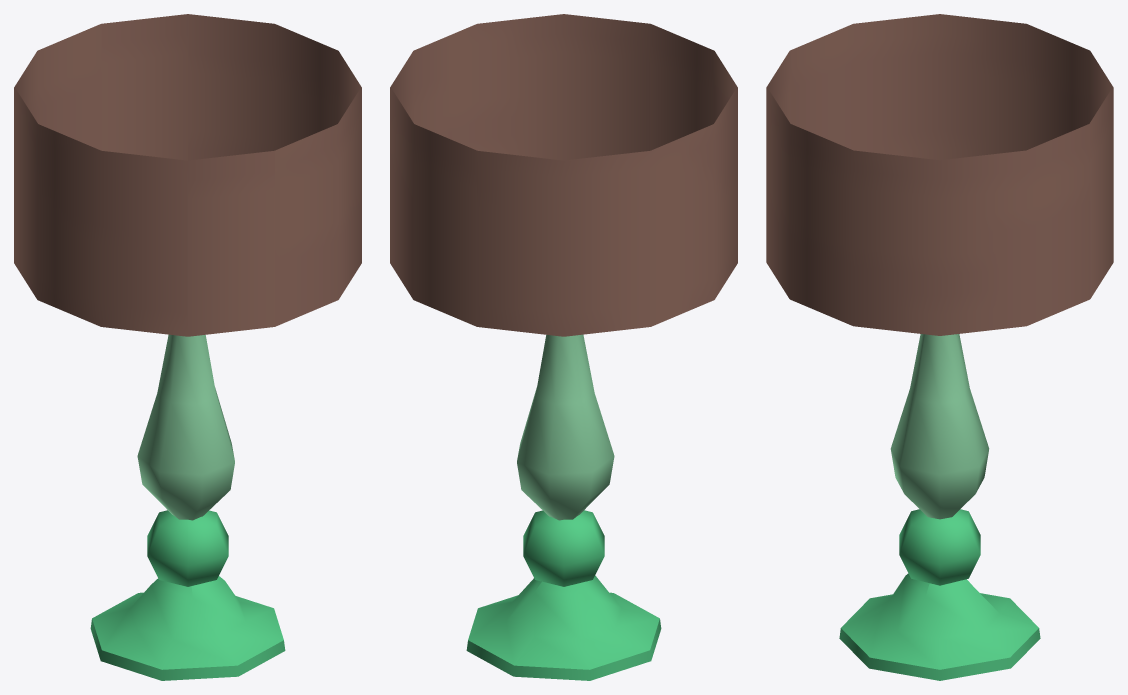
The model's file is lamp_003.glb.
3 views of the same model, side by side, from view 1: azimuth 30°, elevation 25°; view 2: azimuth 150°, elevation 25°; view 3: azimuth 270°, elevation 25° (orthographic).
Parts seen in each view (by area): view 1: lamp_003; view 2: lamp_003; view 3: lamp_003.
Part boxes in pixels (bbox=[...]): lamp_003: bbox=[14, 14, 361, 680]; lamp_003: bbox=[390, 14, 737, 680]; lamp_003: bbox=[766, 14, 1113, 680].
Bounding box in the file's own units: 0.3947 × 0.6916 × 0.3947.
Materials: 1 (1 with a texture image).
